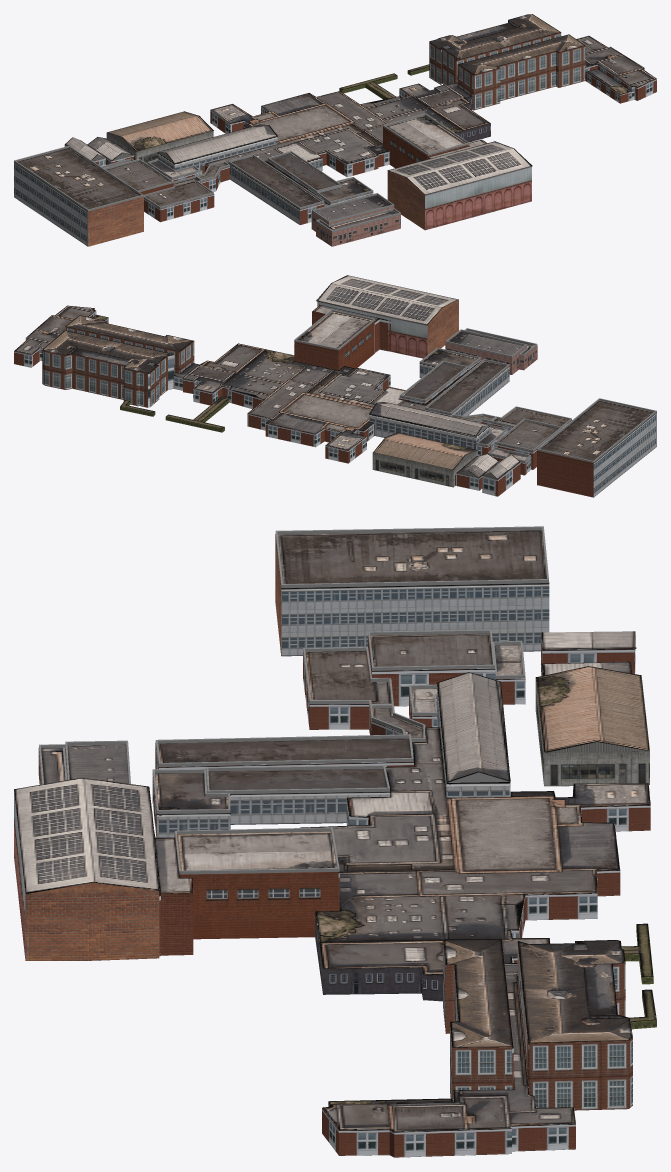
Rendered from junior_school_buildings.glb.
3 renders of one model, top to bottom at view 1: azimuth 30°, elevation 25°; view 2: azimuth 150°, elevation 25°; view 3: azimuth 270°, elevation 25°, orthographic. The views are drawn at different scales.
Size of the model in its own units: 3532 by 230 by 1714.
16 materials, 15 textured.
